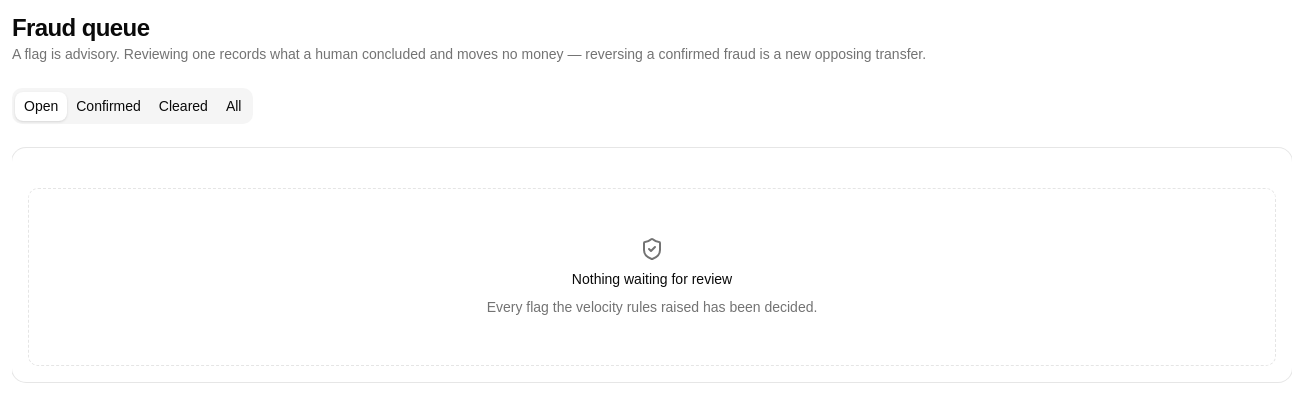
Test: the queue › explains what empty means on the Confirmed tab
The width and height of the screenshot is (1292, 400).
Click the tab "Confirmed": (109, 106) [67,92,150,120]
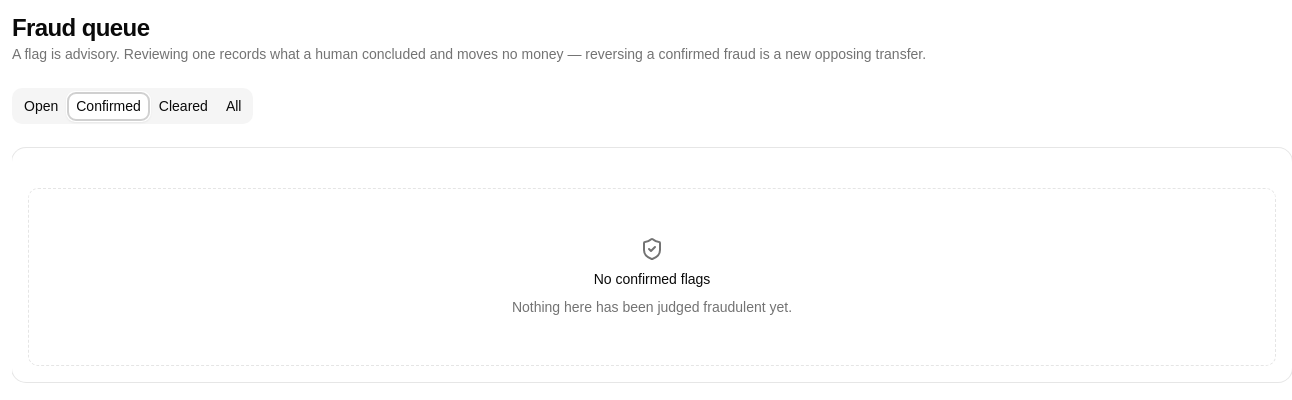
Check: the text "No confirmed flags" is shown, box [594,269,710,289]
Check: the text "Nothing here has been judged fraudulent yet." is shown, box [512,297,792,317]
